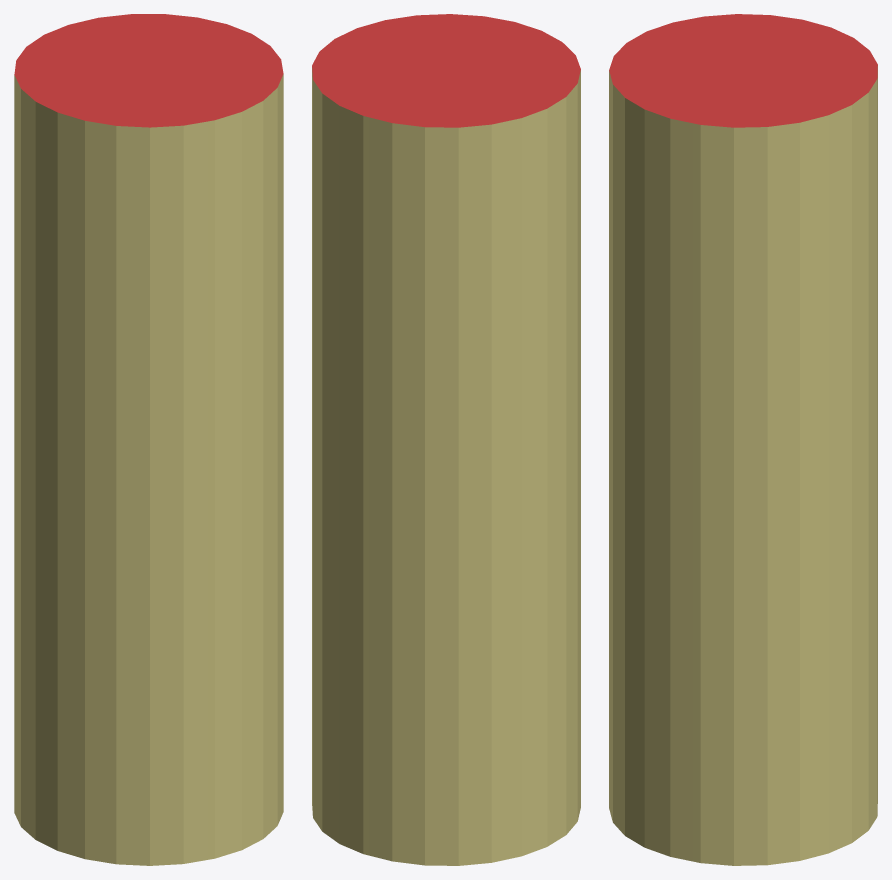
3 renders of one model, left to right at view 1: azimuth 30°, elevation 25°; view 2: azimuth 150°, elevation 25°; view 3: azimuth 270°, elevation 25°, orthographic.
Bounding box in the file's own units: 4.67 × 4.67 × 14.15.
